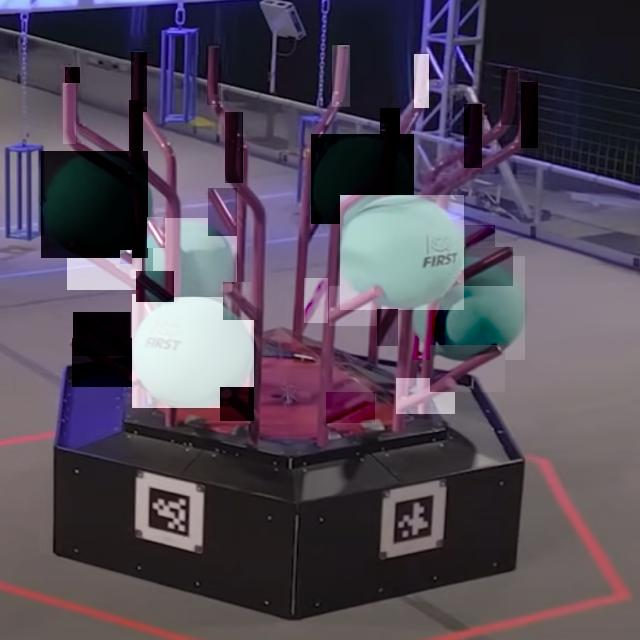Algae: (340, 195, 464, 310), (132, 294, 254, 408), (412, 256, 525, 360), (41, 151, 148, 258), (311, 134, 414, 224), (153, 218, 237, 297)
Reef: (67, 238, 142, 290), (430, 345, 505, 392), (72, 338, 132, 387), (74, 312, 132, 356), (454, 247, 513, 286), (329, 286, 383, 326), (396, 378, 455, 414), (326, 392, 375, 423), (380, 108, 400, 178), (208, 188, 237, 236), (224, 282, 258, 320), (226, 112, 243, 183), (136, 271, 174, 302), (220, 387, 254, 421), (464, 104, 482, 168), (521, 82, 538, 148), (332, 46, 350, 108), (304, 278, 328, 323), (501, 68, 518, 125), (131, 52, 147, 112), (129, 100, 143, 161), (207, 45, 221, 105), (414, 54, 429, 108), (63, 83, 76, 144), (377, 309, 398, 346), (465, 225, 495, 248), (148, 217, 166, 248), (65, 67, 80, 83), (120, 250, 132, 264)
